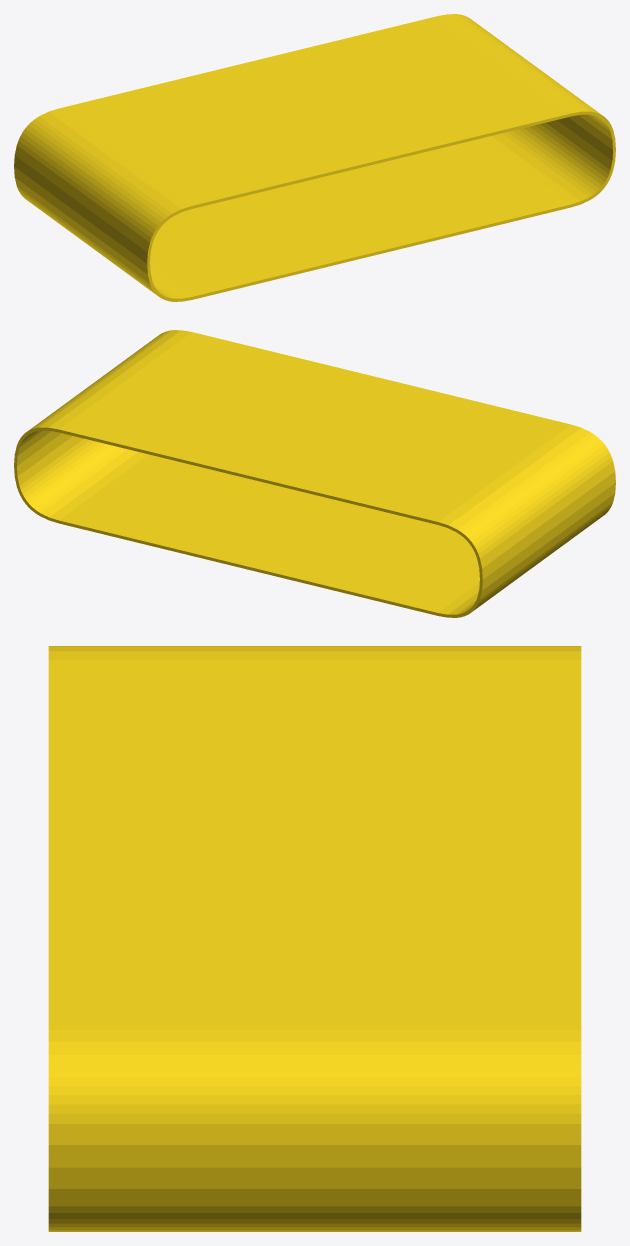
The model's file is tinker.obj.
3 views of the same model, one above another, from view 1: azimuth 30°, elevation 25°; view 2: azimuth 150°, elevation 25°; view 3: azimuth 270°, elevation 25° (orthographic). The views are drawn at different scales.
Visible parts, largest first — view 1: obj_0; view 2: obj_0; view 3: obj_0.
Boxes of the visible parts, left/top/right/bottom form: obj_0: left=14, top=14, right=615, bottom=301; obj_0: left=14, top=330, right=615, bottom=617; obj_0: left=48, top=646, right=581, bottom=1231.
Bounding box in the file's own units: 110 × 21.03 × 54.
